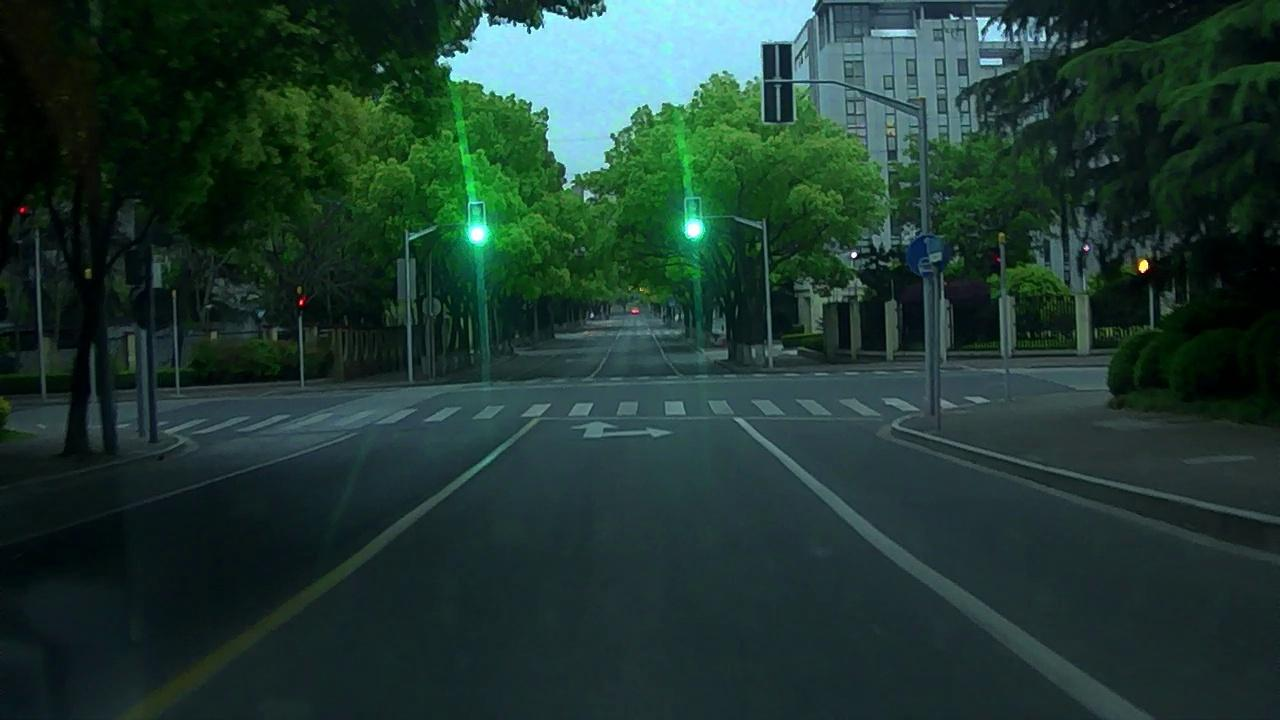traffic_light: (686, 197, 703, 239), (469, 202, 484, 244)
